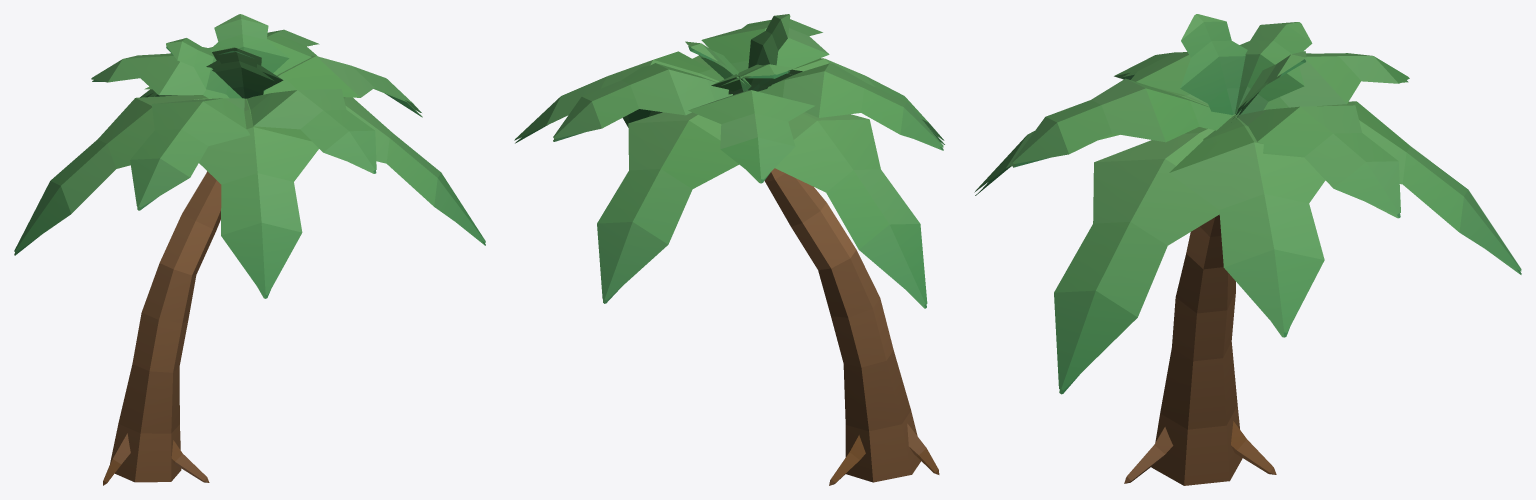
File: world_tree_palm_v3.fbx
The picture shows the model from 3 angles, left to right: view 1: azimuth 30°, elevation 25°; view 2: azimuth 150°, elevation 25°; view 3: azimuth 270°, elevation 25°; orthographic projection. The views are drawn at different scales.
Parts seen in each view (by area): view 1: world_tree_palm_v3; view 2: world_tree_palm_v3; view 3: world_tree_palm_v3.
Boxes of the visible parts, left/top/right/bottom form: world_tree_palm_v3: left=14, top=14, right=485, bottom=485; world_tree_palm_v3: left=514, top=14, right=944, bottom=485; world_tree_palm_v3: left=974, top=14, right=1521, bottom=485.
Bounding box in the file's own units: 1237 × 1206 × 1179.
